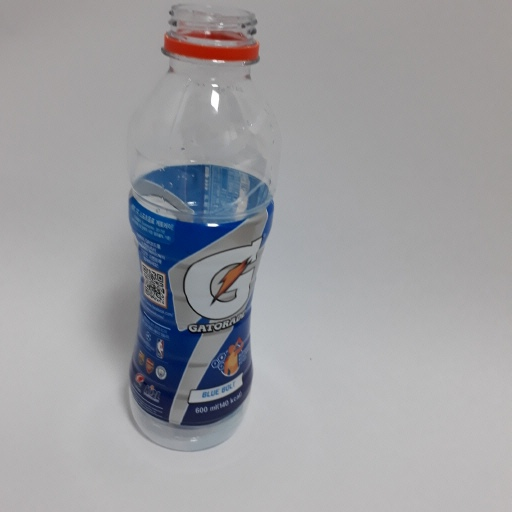Plastic_0: (121, 4, 278, 457)
